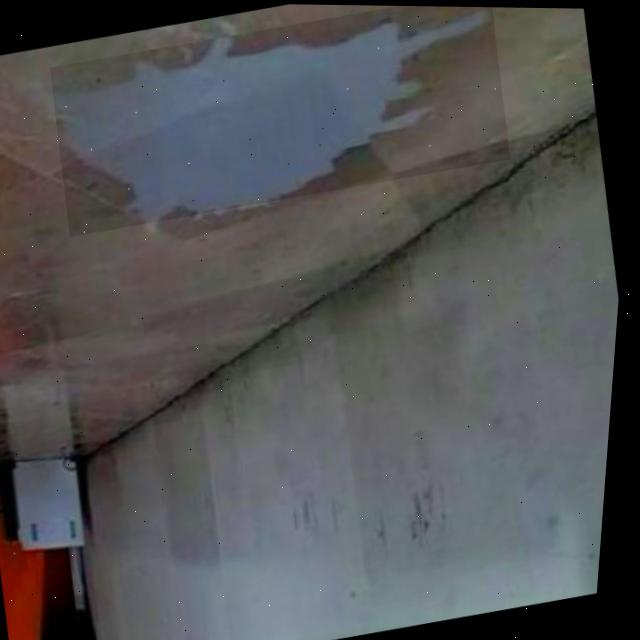spillage: (56, 5, 492, 212)
